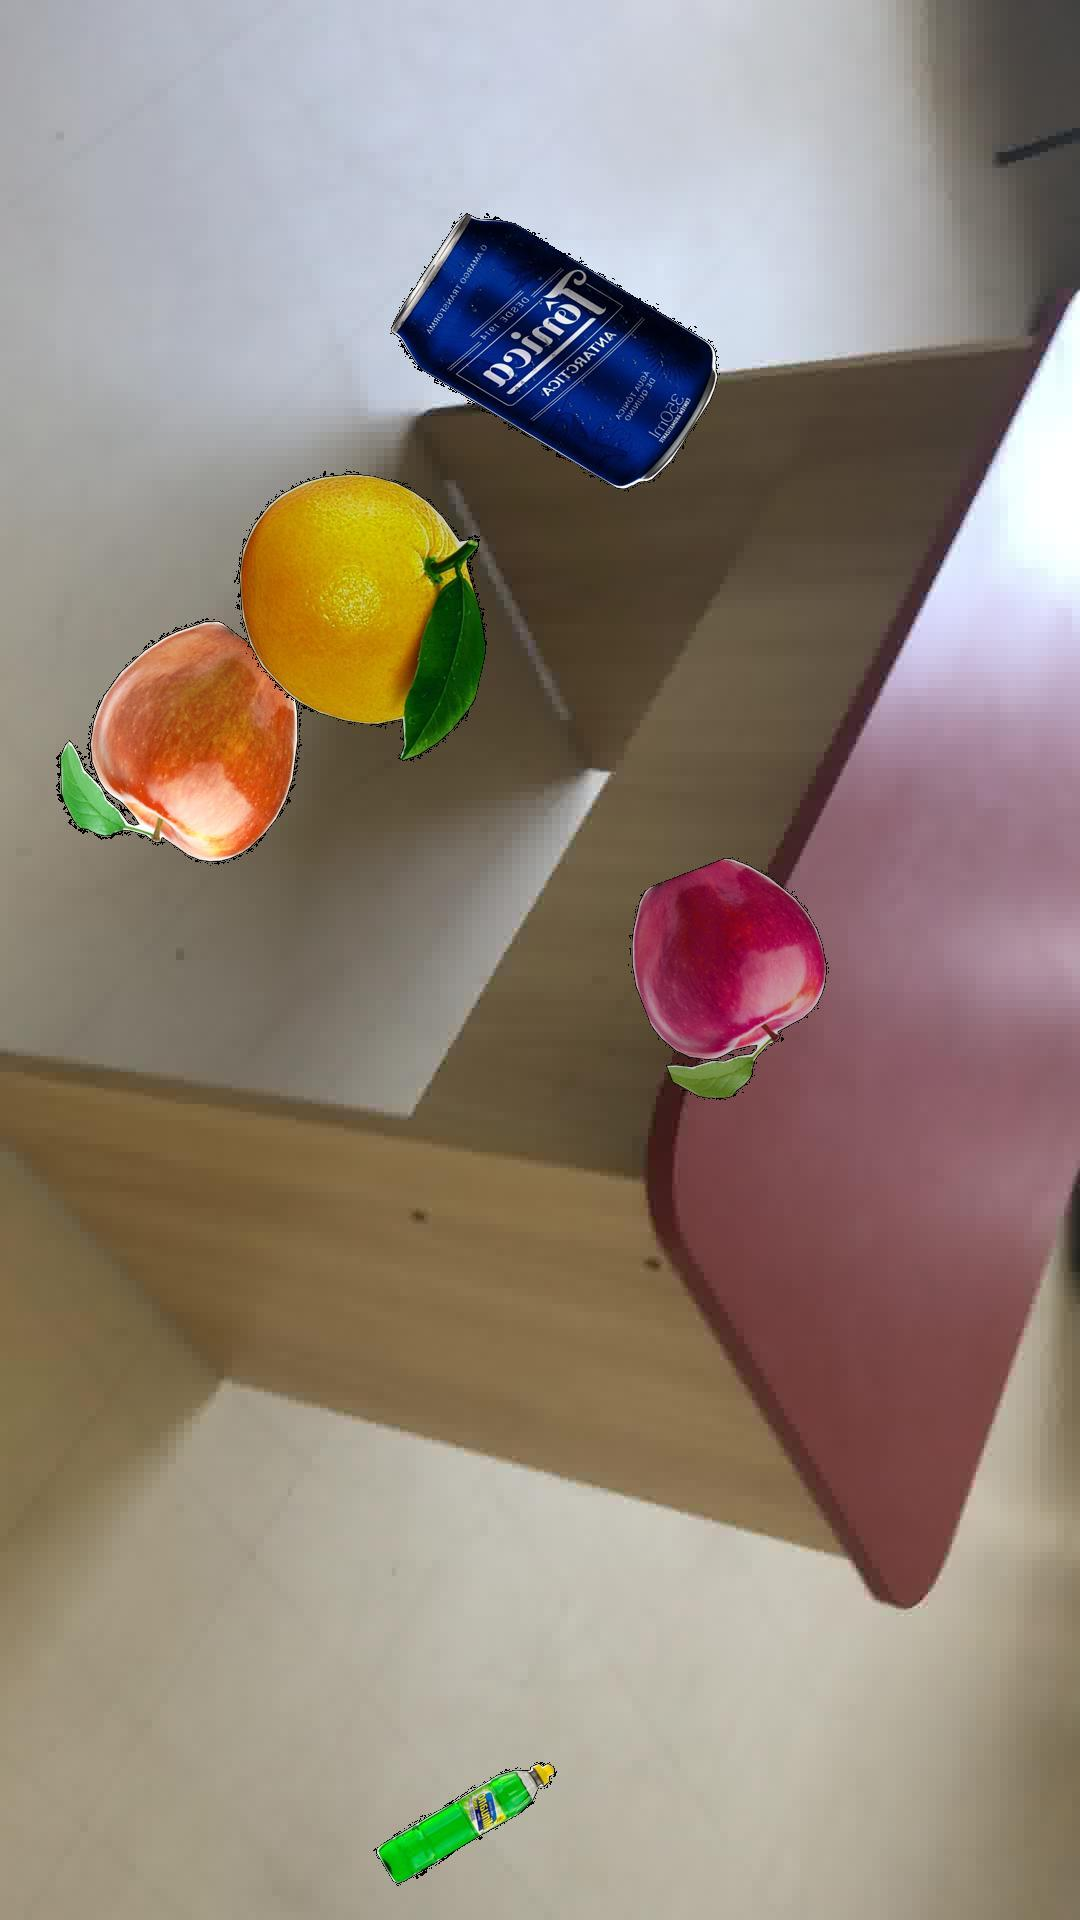apple: (628, 857, 827, 1098)
cleaner: (372, 1760, 555, 1883)
orange: (236, 469, 485, 760)
tonic: (389, 211, 716, 488)
